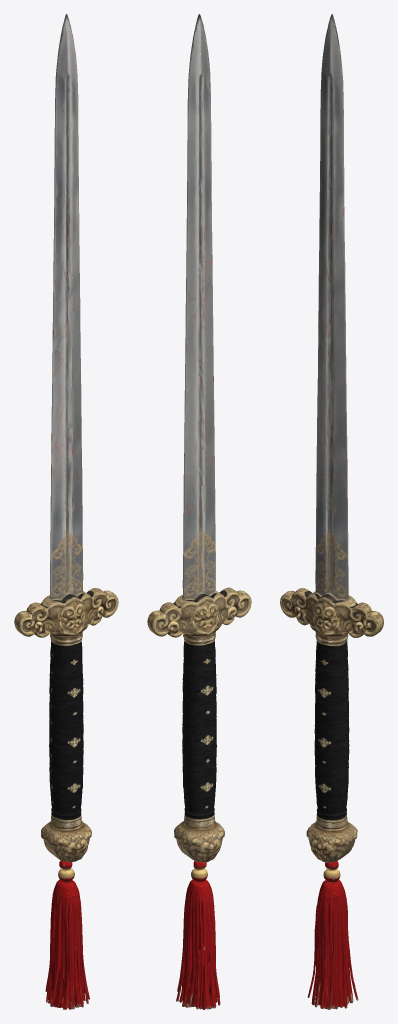
Rendered from weapon_ming_jian.glb.
3 views of the same model, side by side, from view 1: azimuth 30°, elevation 25°; view 2: azimuth 210°, elevation 25°; view 3: azimuth 330°, elevation 25° (orthographic).
Size of the model in its own units: 0.1156 by 1.1 by 0.0552.
1 material, 1 textured.
